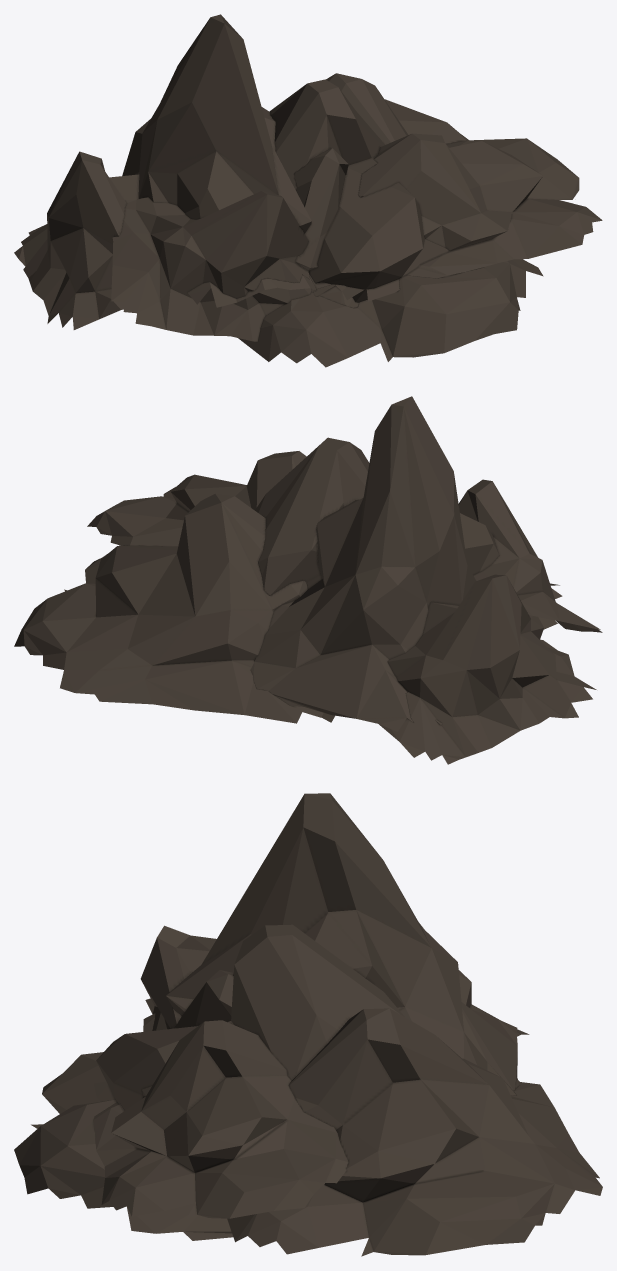
File: Berg.glb
3 views of the same model, one above another, from view 1: azimuth 30°, elevation 25°; view 2: azimuth 150°, elevation 25°; view 3: azimuth 270°, elevation 25° (orthographic). The views are drawn at different scales.
Parts seen in each view (by area): view 1: Berg; view 2: Berg; view 3: Berg.
Boxes of the visible parts, x1,y1,x2,y2 form: Berg: (14,14,602,367); Berg: (14,396,602,764); Berg: (14,793,602,1256).
Bounding box in the file's own units: 238 × 127 × 213.
Materials: 1 (1 with a texture image).
